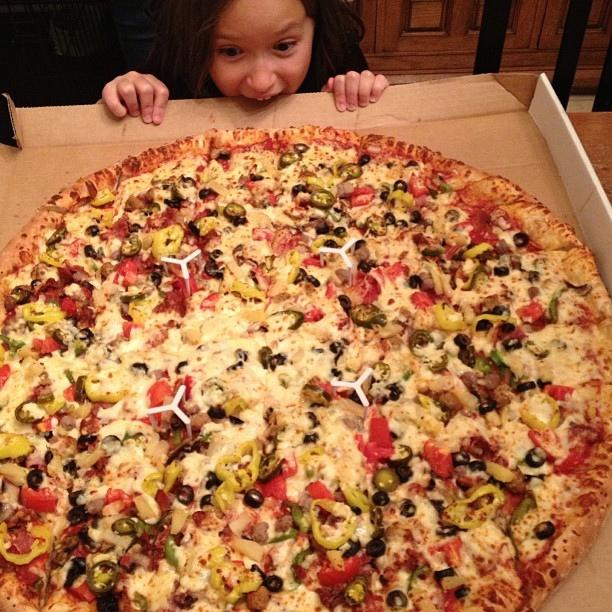tomato: (324, 272, 382, 307), (317, 554, 360, 586), (423, 440, 454, 480), (16, 552, 49, 588), (428, 536, 462, 568), (105, 487, 141, 516), (307, 481, 336, 515), (21, 487, 56, 512), (147, 377, 174, 408), (369, 418, 393, 450), (113, 259, 139, 288), (263, 474, 287, 501), (70, 580, 97, 604), (515, 300, 543, 323), (350, 187, 375, 208), (544, 385, 574, 402), (383, 262, 406, 284), (32, 336, 60, 354), (122, 321, 144, 342), (60, 296, 79, 320), (411, 292, 436, 310), (200, 292, 222, 312), (472, 229, 499, 245), (558, 455, 584, 471), (192, 202, 212, 222), (60, 238, 80, 258), (410, 176, 428, 198), (1, 364, 12, 391), (303, 309, 324, 323), (63, 382, 76, 401), (246, 179, 254, 190)
